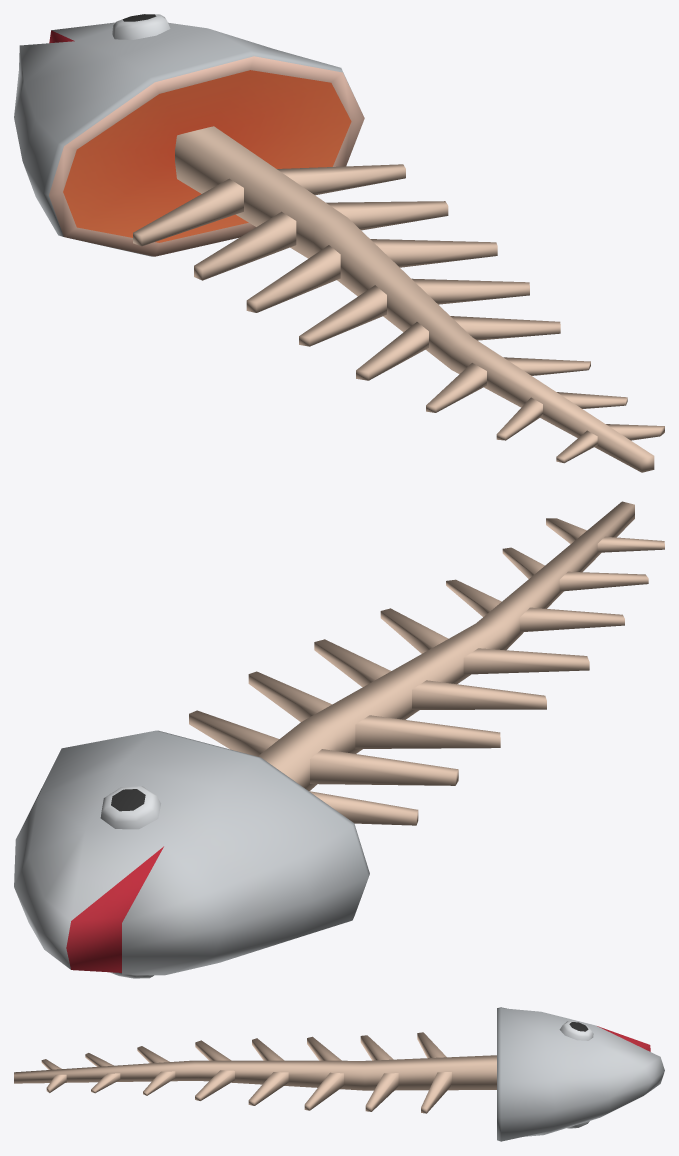
The model's file is FishSkeleton.fbx.
The picture shows the model from 3 angles, top to bottom: view 1: azimuth 30°, elevation 25°; view 2: azimuth 150°, elevation 25°; view 3: azimuth 270°, elevation 25°; orthographic projection. The views are drawn at different scales.
Visible parts, largest first — view 1: FishSkeleton; view 2: FishSkeleton; view 3: FishSkeleton.
Boxes of the visible parts, x1=… form: FishSkeleton: x1=14, y1=14, x2=664, y2=472; FishSkeleton: x1=14, y1=501, x2=664, y2=978; FishSkeleton: x1=14, y1=1007, x2=664, y2=1141.
Bounding box in the file's own units: 13.09 × 7.17 × 40.64.
